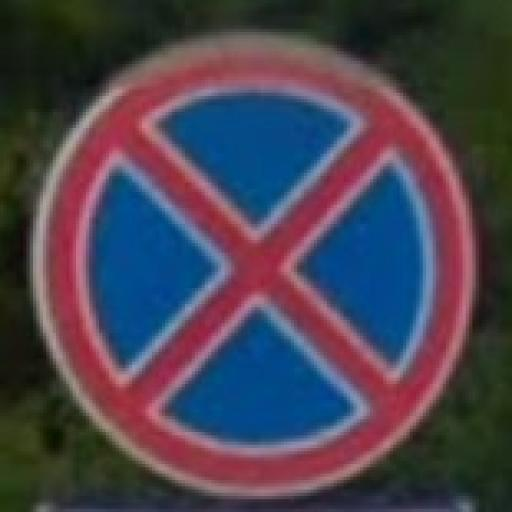traffic_sign: (28, 27, 484, 507)
